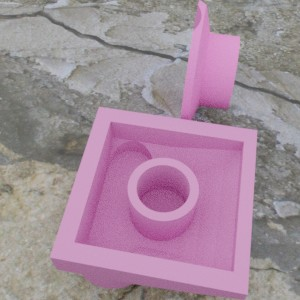lego: (49, 106, 257, 300), (179, 0, 240, 131)
